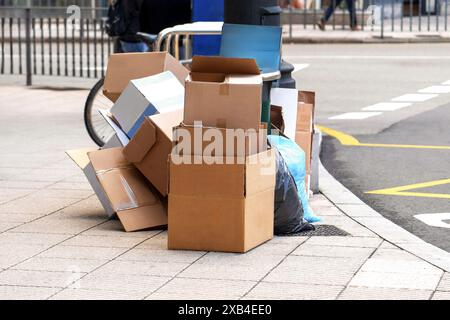DeliveryBox: (77, 47, 325, 250)
